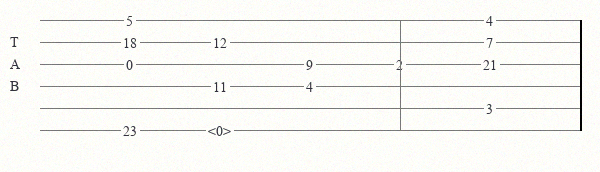0: (126, 57, 137, 71)
11: (213, 79, 231, 93)
12: (213, 35, 231, 49)
18: (123, 35, 141, 49)
2: (396, 57, 407, 71)
21: (483, 57, 501, 71)
23: (123, 123, 141, 137)
3: (486, 101, 497, 115)
4: (306, 79, 317, 93), (486, 13, 497, 27)
5: (126, 13, 137, 27)
7: (486, 35, 497, 49)
9: (306, 57, 317, 71)
harmonic: (208, 123, 235, 137)
